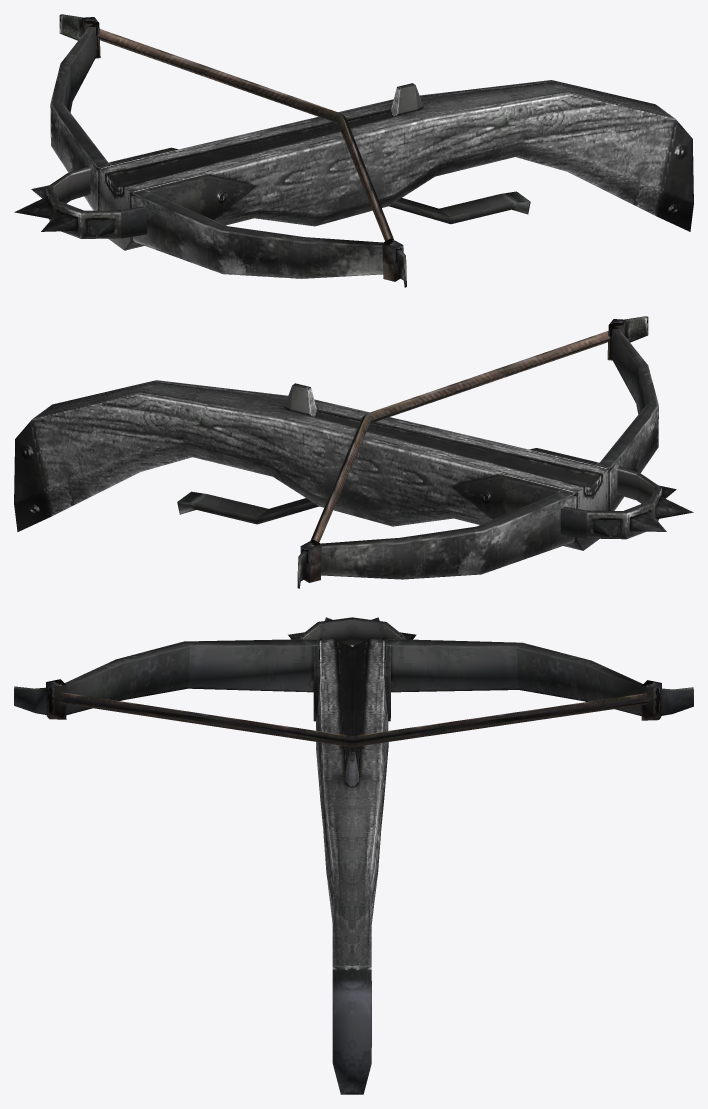
Rendered from CROSSBOW_BLACK_06.glb.
The picture shows the model from 3 angles, top to bottom: view 1: azimuth 30°, elevation 25°; view 2: azimuth 150°, elevation 25°; view 3: azimuth 270°, elevation 25°; orthographic projection.
Parts seen in each view (by area): view 1: CROSSBOW_BLACK_06; view 2: CROSSBOW_BLACK_06; view 3: CROSSBOW_BLACK_06.
Boxes of the visible parts, x1=… form: CROSSBOW_BLACK_06: x1=14, y1=14, x2=693, y2=287; CROSSBOW_BLACK_06: x1=14, y1=316, x2=693, y2=588; CROSSBOW_BLACK_06: x1=14, y1=617, x2=693, y2=1094.
Bounding box in the file's own units: 0.8126 × 0.2478 × 0.7425.
Materials: 1 (1 with a texture image).
